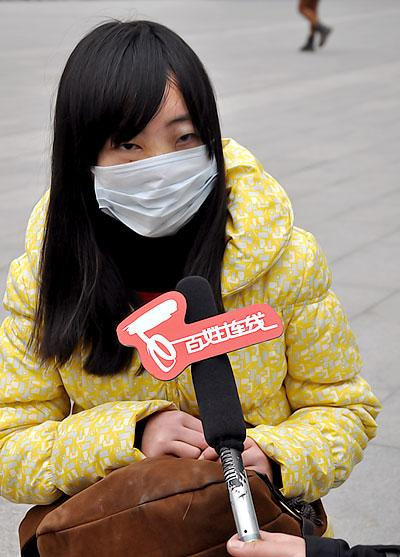face_mask: (99, 69, 206, 236)
